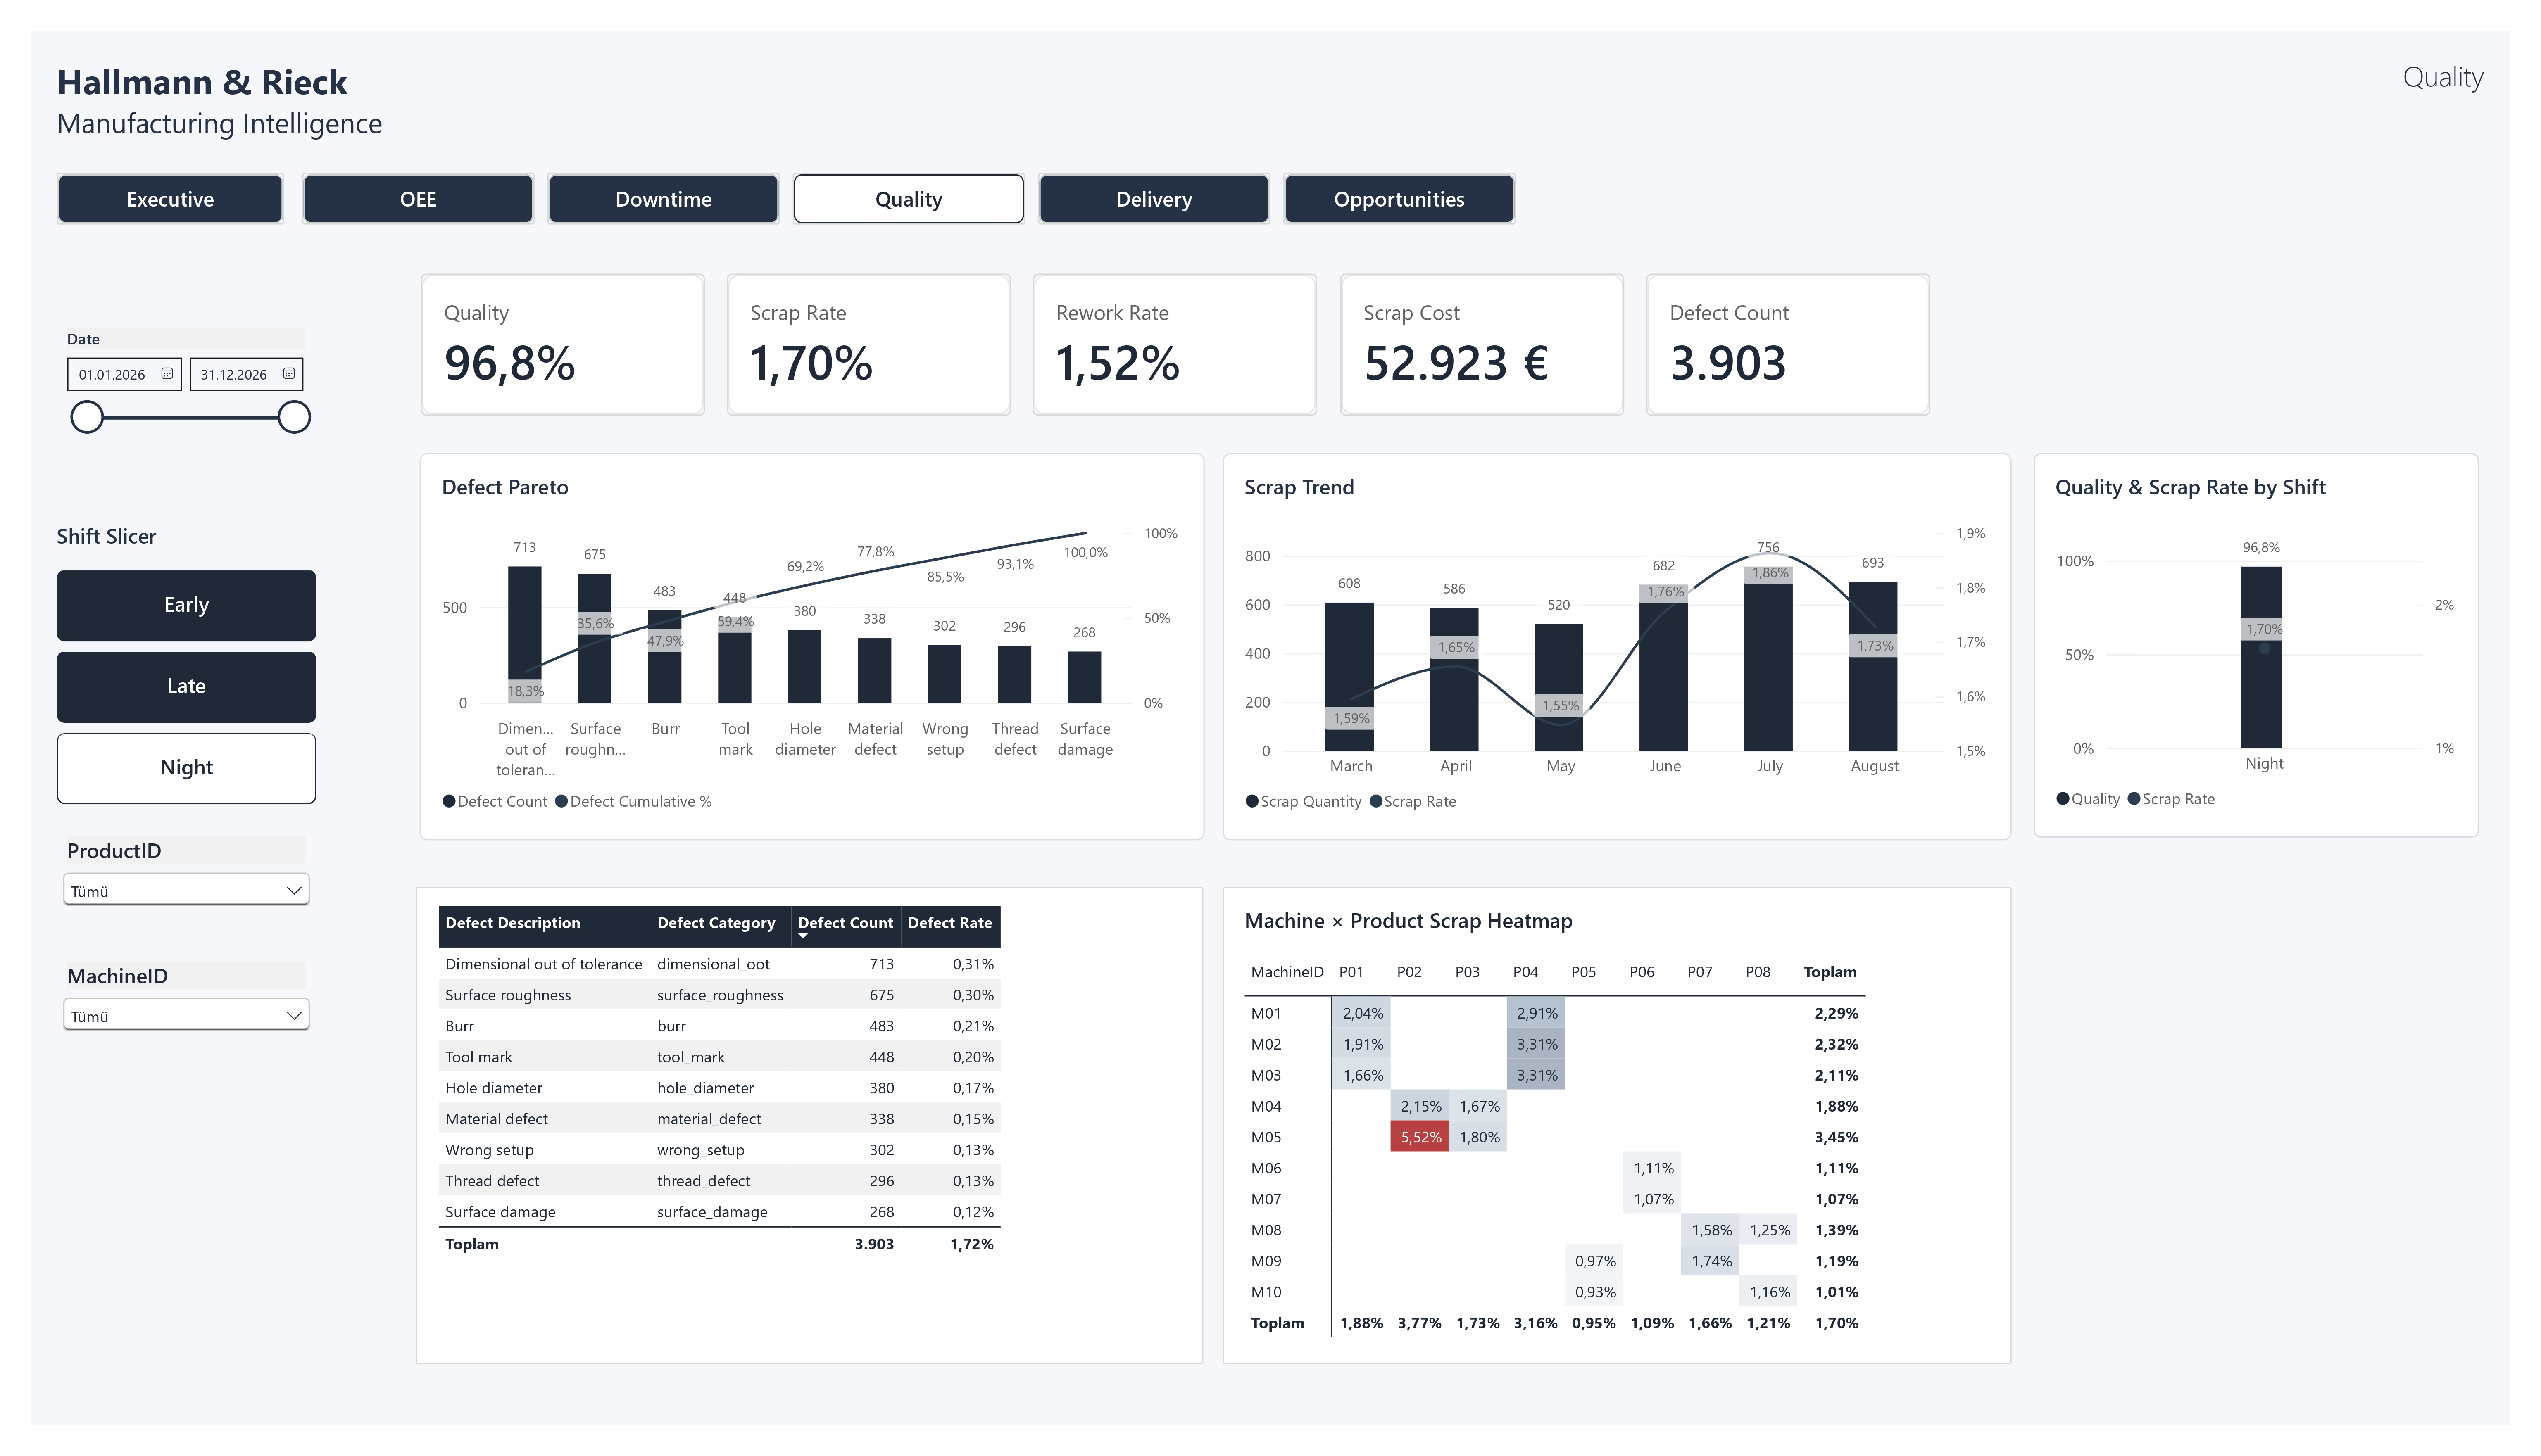

What the dashboard file says about the page in this screenshot:
{"tool":"powerbi","page":{"name":"04 Quality","canvas":[1920,1080],"ordinal":3},"visuals":[{"type":"textbox","title":"Company Text","box":[20,20,362.5,80],"z":0,"group":"g1"},{"type":"actionButton","title":"Opportunities","box":[970.3,110.5,180,40],"z":0,"group":"g2"},{"type":"tableEx","fields":{"Values":["Dim_Defect.DefectDescription","Dim_Defect.DefectCategory","_Measures.Defect Count","_Measures.Defect Rate"]},"box":[298.3,662.9,610,370],"z":0},{"type":"textbox","title":"Page Text","box":[1644.9,20,255.1,80.5],"z":1000,"group":"g1"},{"type":"actionButton","title":"Delivery","box":[780,110,180,40],"z":1000,"group":"g2"},{"type":"lineClusteredColumnComboChart","title":"Defect Pareto","fields":{"Category":["Dim_Defect.DefectDescription"],"Y":["_Measures.Defect Count"],"Y2":["_Measures.Defect Cumulative %"]},"box":[300.7,326.7,608.4,300],"z":1000},{"type":"actionButton","title":"Quality","box":[590,110,180,40],"z":2000,"group":"g2"},{"type":"cardVisual","fields":{"Data":["_Measures.Defect Count"],"Values":["_Measures.Defect Count"]},"box":[1250.8,188,220,110],"z":2000},{"type":"actionButton","title":"Downtime","box":[400,110,180,40],"z":3000,"group":"g2"},{"type":"cardVisual","fields":{"Data":["_Measures.Scrap Rate"],"Values":["_Measures.Scrap Rate"]},"box":[539.1,188,220,110],"z":3000},{"type":"actionButton","title":"OEE","box":[210,110,180,40],"z":4000,"group":"g2"},{"type":"cardVisual","fields":{"Data":["_Measures.Rework Rate"],"Values":["_Measures.Rework Rate"]},"box":[776.3,188,220,110],"z":4000},{"type":"actionButton","title":"Executive","box":[20,110,176,40],"z":5000,"group":"g2"},{"type":"cardVisual","fields":{"Data":["_Measures.Scrap Cost"],"Values":["_Measures.Scrap Cost"]},"box":[1013.5,188,220,110],"z":5000},{"type":"pivotTable","title":"Machine × Product Scrap Heatmap","fields":{"Columns":["Dim_Product.ProductID"],"Rows":["Dim_Machine.MachineID"],"Values":["_Measures.Scrap Rate"]},"box":[923.3,662.9,610.8,370],"z":6000},{"type":"cardVisual","fields":{"Data":["_Measures.Quality"],"Values":["_Measures.Quality"]},"box":[301.9,188.4,220,110],"z":7000},{"type":"lineClusteredColumnComboChart","title":"Quality & Scrap Rate by Shift","fields":{"Category":["Dim_Shift.ShiftName"],"Y":["_Measures.Quality"],"Y2":["_Measures.Scrap Rate"]},"box":[1550.7,326.7,345.6,298.3],"z":8000},{"type":"lineClusteredColumnComboChart","title":"Scrap Trend","fields":{"Category":["Dim_Date.MonthName"],"Y":["_Measures.Scrap Quantity"],"Y2":["_Measures.Scrap Rate"]},"box":[923.3,326.7,610.8,300],"z":9000},{"type":"slicer","fields":{"Values":["Dim_Product.ProductID"]},"box":[20,624.1,200.6,79],"z":10000},{"type":"slicer","fields":{"Values":["Dim_Machine.MachineID"]},"box":[20,721.4,200.6,89.2],"z":11000},{"type":"group","id":"g1","title":"Header","box":[20,20,1880,80.5],"z":12000},{"type":"group","id":"g2","title":"Navigation Buttons","box":[20,110,1130.3,40.5],"z":13000},{"type":"slicer","title":"Date Slicer","fields":{"Values":["Dim_Date.Date"]},"box":[20,230,200,110],"z":14000},{"type":"advancedSlicerVisual","title":"Shift Slicer","fields":{"Values":["Dim_Shift.ShiftName"]},"box":[20,380,200.6,220.9],"z":15000}]}

Visuals, with their boxes on the page's 1920x1080 design canvas (x1, y1, x2, y2). These are canvas units, not pixel positions in the 2541x1456 screenshot, which may show the page scaled, cropped or inside an application window:
"Company Text" textbox: left=20, top=20, right=382, bottom=100
"Opportunities" actionButton: left=970, top=110, right=1150, bottom=150
tableEx - Dim_Defect.DefectDescription x Dim_Defect.DefectCategory: left=298, top=663, right=908, bottom=1033
"Page Text" textbox: left=1645, top=20, right=1900, bottom=100
"Delivery" actionButton: left=780, top=110, right=960, bottom=150
"Defect Pareto" lineClusteredColumnComboChart: left=301, top=327, right=909, bottom=627
"Quality" actionButton: left=590, top=110, right=770, bottom=150
cardVisual - _Measures.Defect Count x _Measures.Defect Count: left=1251, top=188, right=1471, bottom=298
"Downtime" actionButton: left=400, top=110, right=580, bottom=150
cardVisual - _Measures.Scrap Rate x _Measures.Scrap Rate: left=539, top=188, right=759, bottom=298
"OEE" actionButton: left=210, top=110, right=390, bottom=150
cardVisual - _Measures.Rework Rate x _Measures.Rework Rate: left=776, top=188, right=996, bottom=298
"Executive" actionButton: left=20, top=110, right=196, bottom=150
cardVisual - _Measures.Scrap Cost x _Measures.Scrap Cost: left=1014, top=188, right=1234, bottom=298
"Machine × Product Scrap Heatmap" pivotTable: left=923, top=663, right=1534, bottom=1033
cardVisual - _Measures.Quality x _Measures.Quality: left=302, top=188, right=522, bottom=298
"Quality & Scrap Rate by Shift" lineClusteredColumnComboChart: left=1551, top=327, right=1896, bottom=625
"Scrap Trend" lineClusteredColumnComboChart: left=923, top=327, right=1534, bottom=627
slicer - Dim_Product.ProductID: left=20, top=624, right=221, bottom=703
slicer - Dim_Machine.MachineID: left=20, top=721, right=221, bottom=811
"Header" group: left=20, top=20, right=1900, bottom=100
"Navigation Buttons" group: left=20, top=110, right=1150, bottom=150
"Date Slicer" slicer: left=20, top=230, right=220, bottom=340
"Shift Slicer" advancedSlicerVisual: left=20, top=380, right=221, bottom=601
